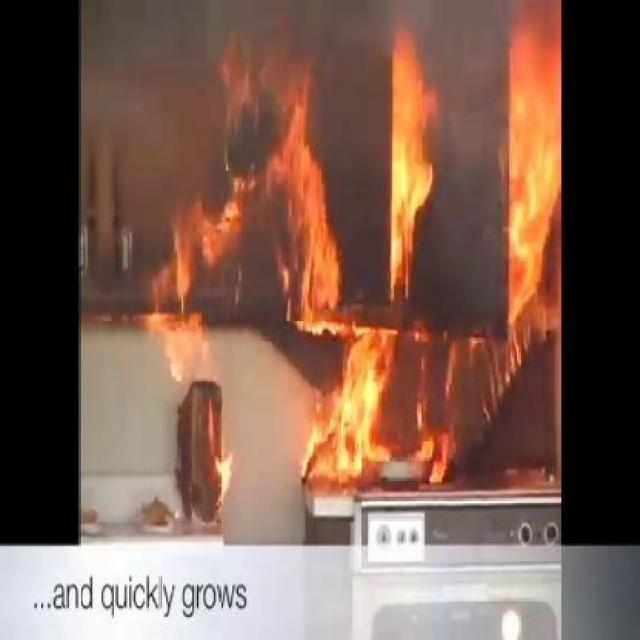fire: (174, 96, 348, 335), (463, 12, 559, 357), (312, 327, 454, 496), (153, 314, 244, 520), (374, 29, 438, 308)
